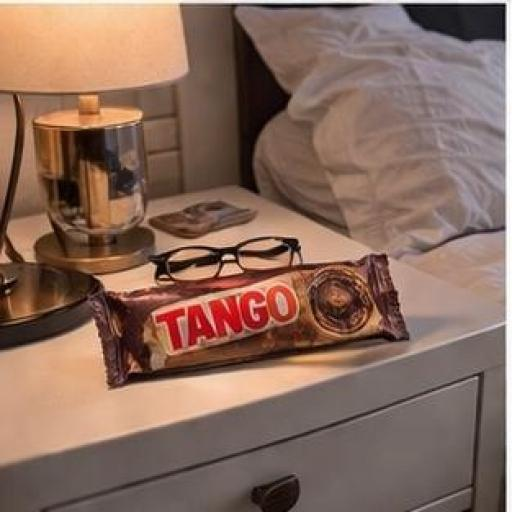tango: (74, 232, 414, 419)
